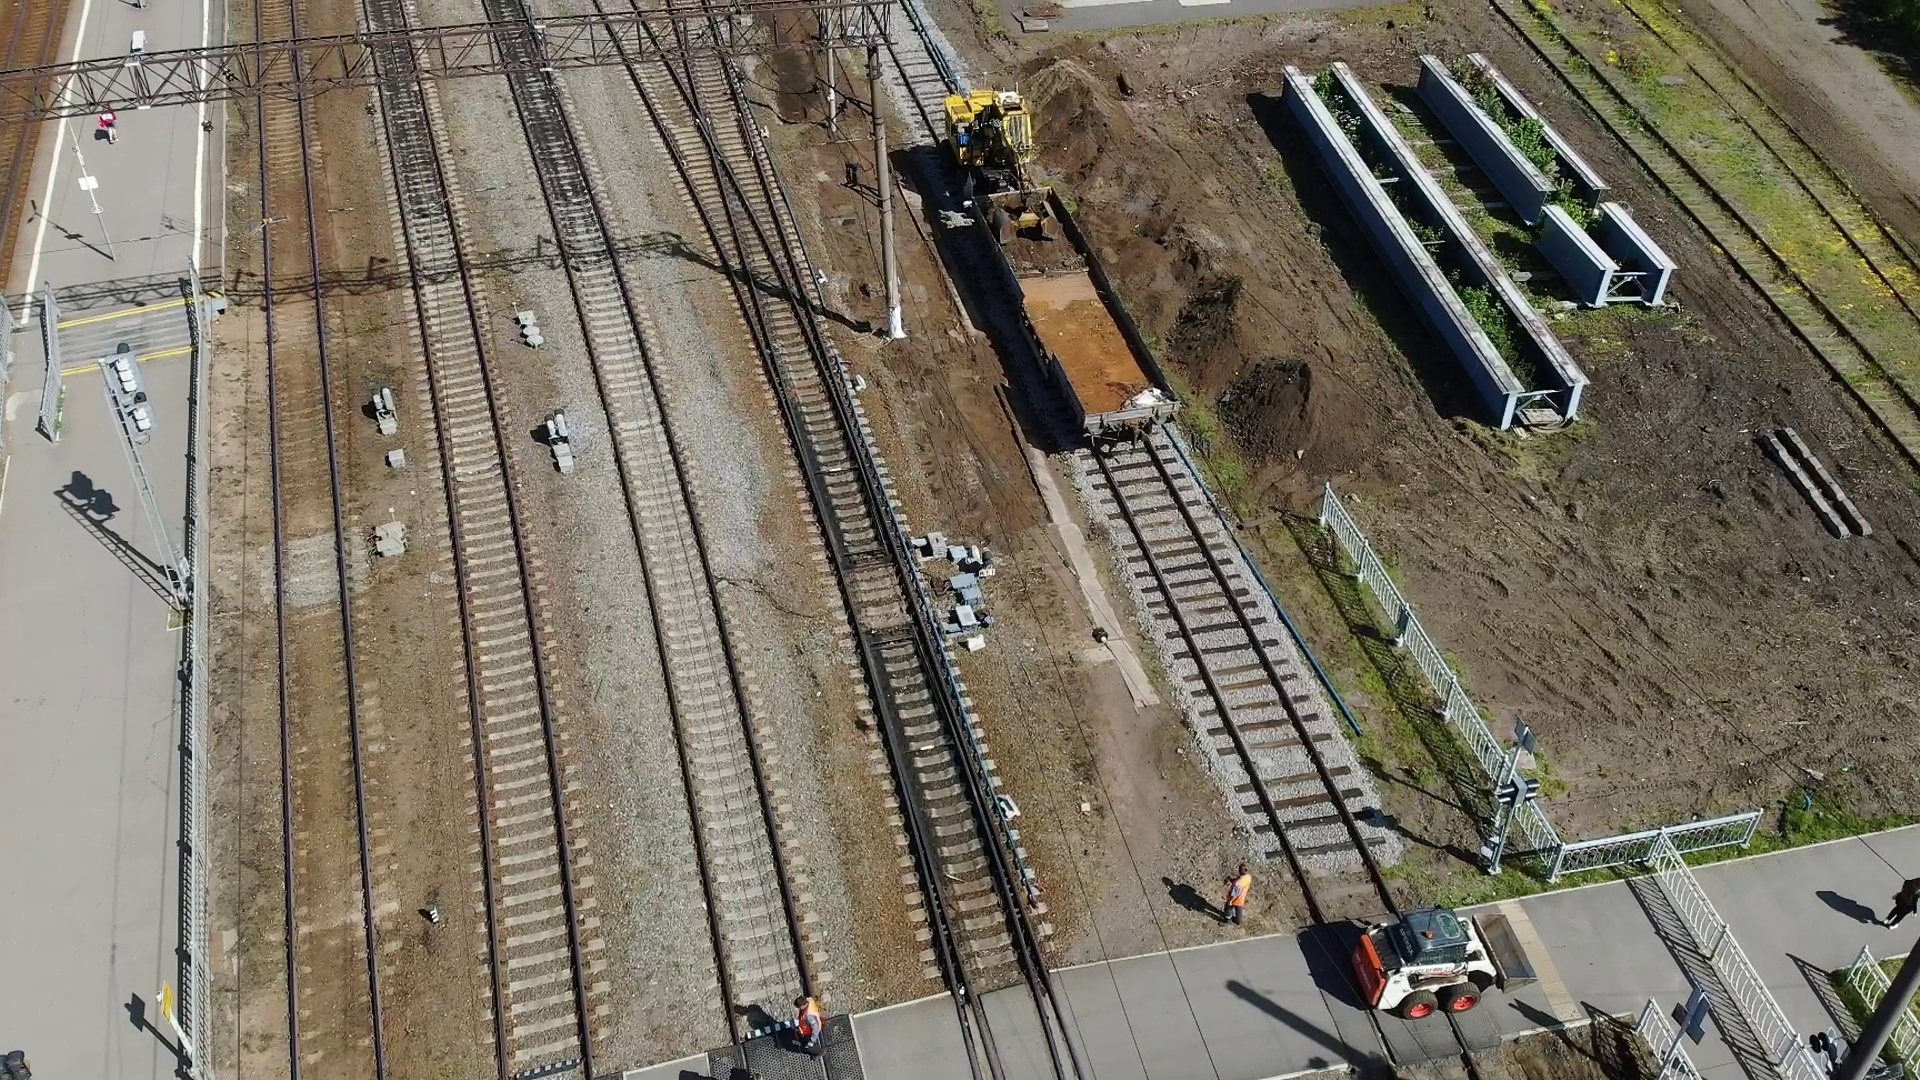kjtv: (945, 98, 1034, 190)
